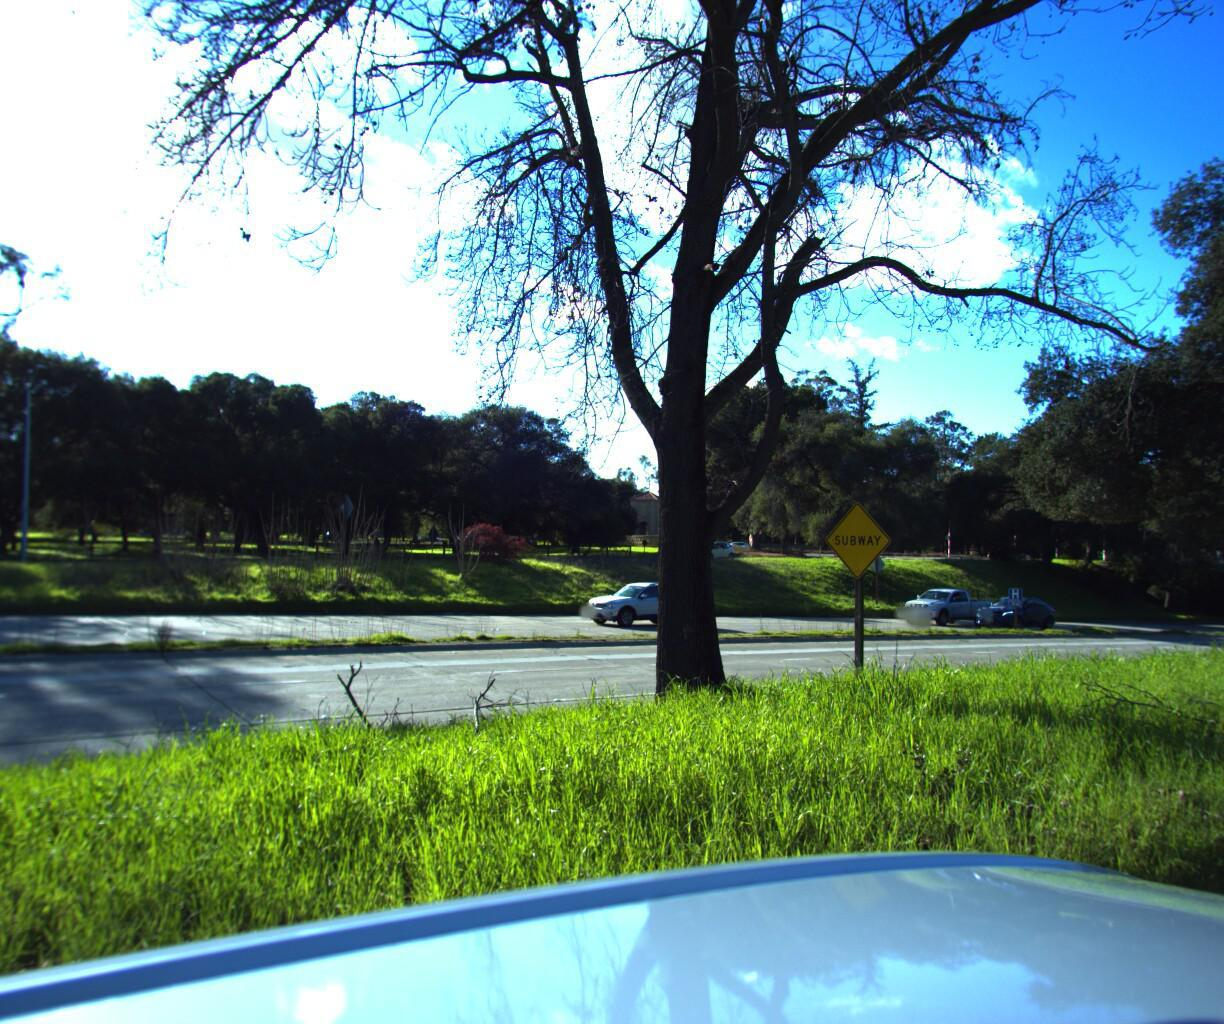car: (572, 577, 700, 626), (898, 583, 989, 624), (968, 589, 1058, 627), (687, 538, 742, 558)
